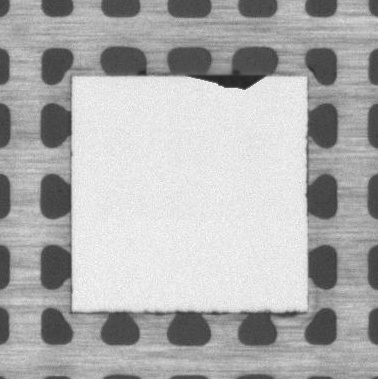DIE_BROKEN: (193, 72, 268, 91)
